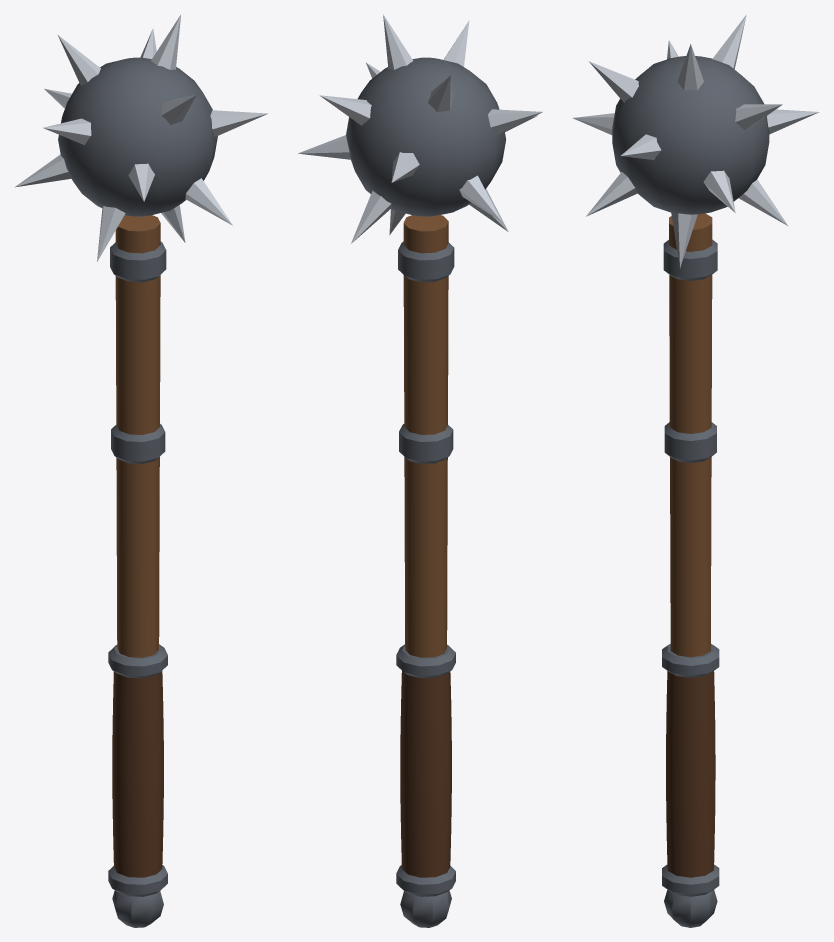
Rendered from mace_spiked.glb.
The picture shows the model from 3 angles, left to right: view 1: azimuth 30°, elevation 25°; view 2: azimuth 150°, elevation 25°; view 3: azimuth 270°, elevation 25°; orthographic projection.
Parts seen in each view (by area): view 1: mace_spiked; view 2: mace_spiked; view 3: mace_spiked.
Boxes of the visible parts, x1,y1,x2,y2 form: mace_spiked: (15, 15, 267, 927); mace_spiked: (298, 14, 542, 927); mace_spiked: (572, 14, 819, 927).
Bounding box in the file's own units: 0.1837 × 0.7429 × 0.1848.
